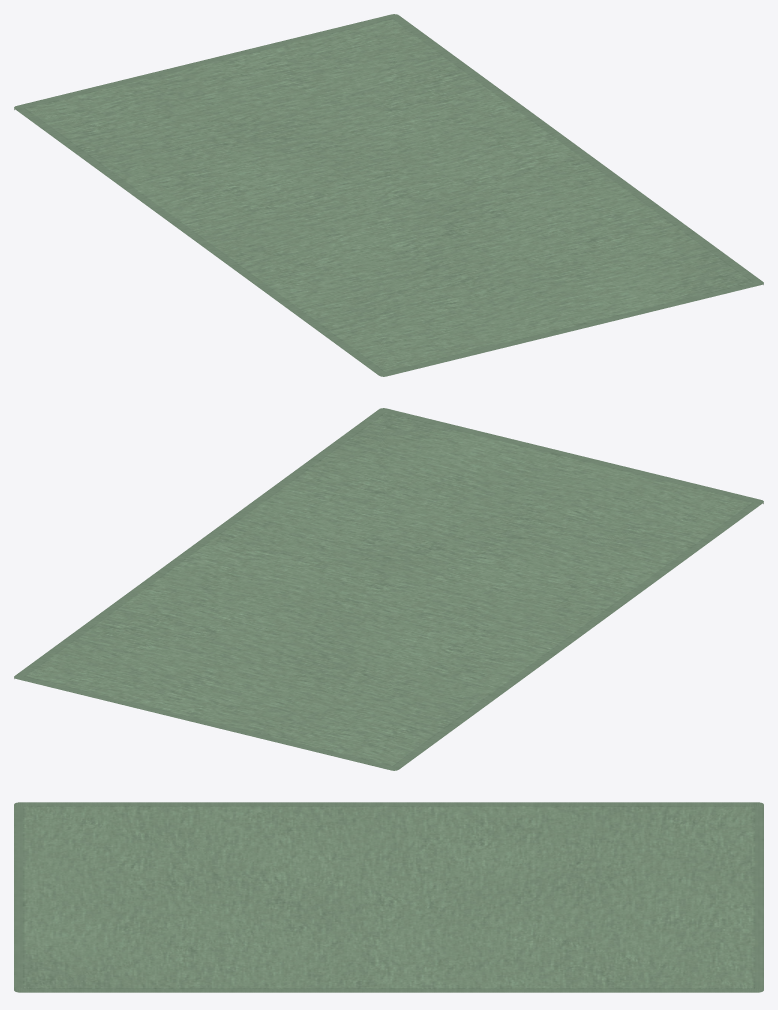
The model's file is green_widehall.glb.
3 renders of one model, top to bottom at view 1: azimuth 30°, elevation 25°; view 2: azimuth 150°, elevation 25°; view 3: azimuth 270°, elevation 25°, orthographic.
Parts seen in each view (by area): view 1: reliv_green_widehall; view 2: reliv_green_widehall; view 3: reliv_green_widehall.
Part boxes in pixels (x1=…): reliv_green_widehall: x1=14, y1=14, x2=763, y2=376; reliv_green_widehall: x1=14, y1=408, x2=763, y2=770; reliv_green_widehall: x1=14, y1=802, x2=763, y2=992.
Bounding box in the file's own units: 1.2 × 0.009 × 2.
2 materials, 1 textured.
